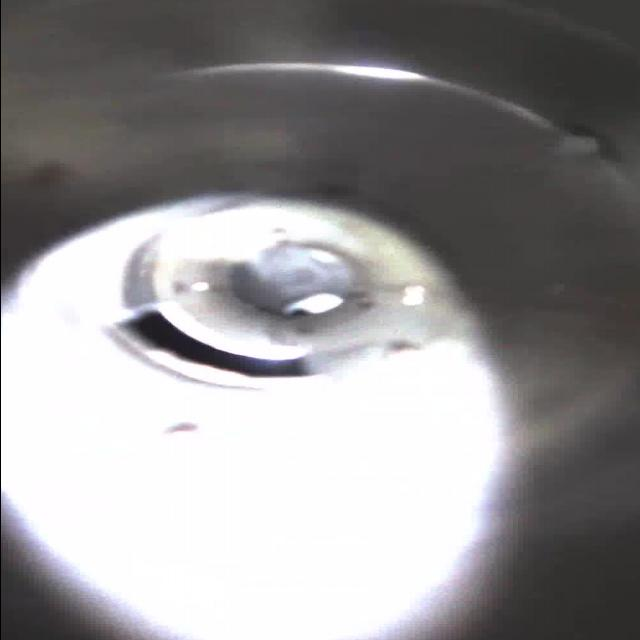hole: (112, 303, 418, 385)
